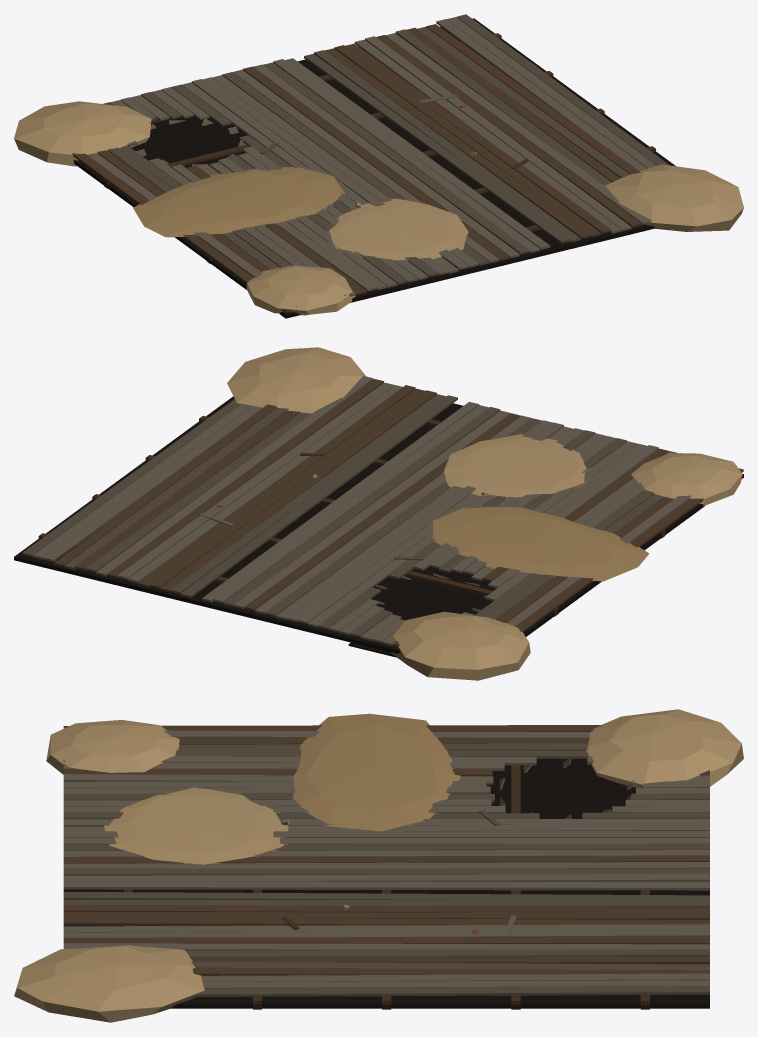
Rendered from TownFloorRot.glb.
3 renders of one model, top to bottom at view 1: azimuth 30°, elevation 25°; view 2: azimuth 150°, elevation 25°; view 3: azimuth 270°, elevation 25°, orthographic. The views are drawn at different scales.
Parts seen in each view (by area): view 1: TownFloorRot.001; view 2: TownFloorRot.001; view 3: TownFloorRot.001.
Part boxes in pixels (box(x1,y1,x2,y2)): TownFloorRot.001: box(14, 14, 743, 318); TownFloorRot.001: box(14, 347, 743, 680); TownFloorRot.001: box(14, 709, 743, 1022).
Bounding box in the file's own units: 15.52 × 1.54 × 15.81.
